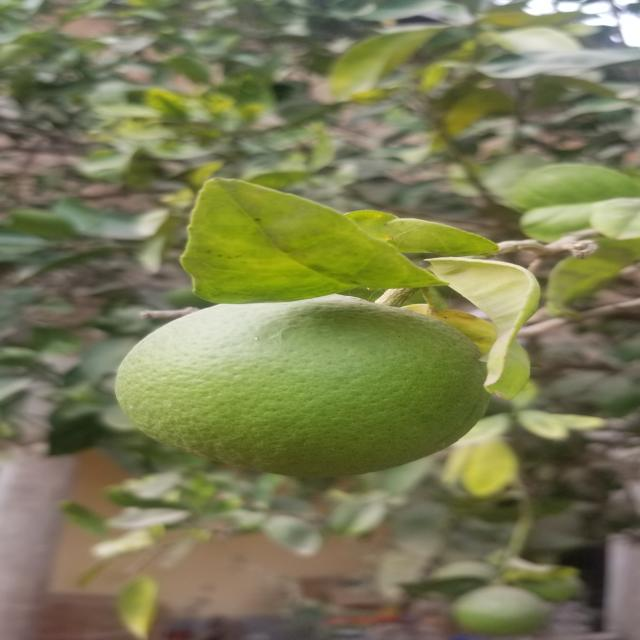Unripe: (85, 280, 499, 503)
